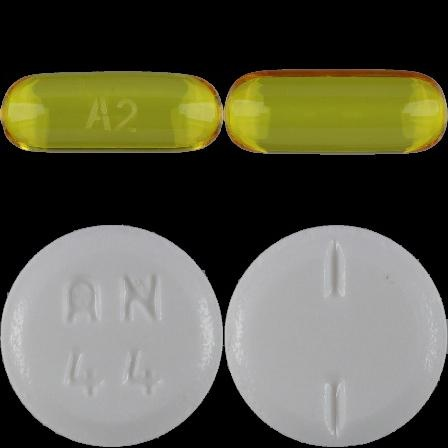65162-537: (0, 0, 224, 224)
